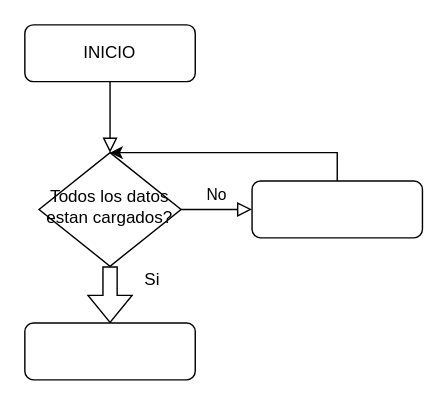
This 447x405 diagram has some shape labels left out. Here are the shapes that lost their labels. From the top down, the box of each, then its label:
(251, 180, 422, 238): Cargo un dato
(23, 322, 195, 380): Calculo y muestro el promedio
